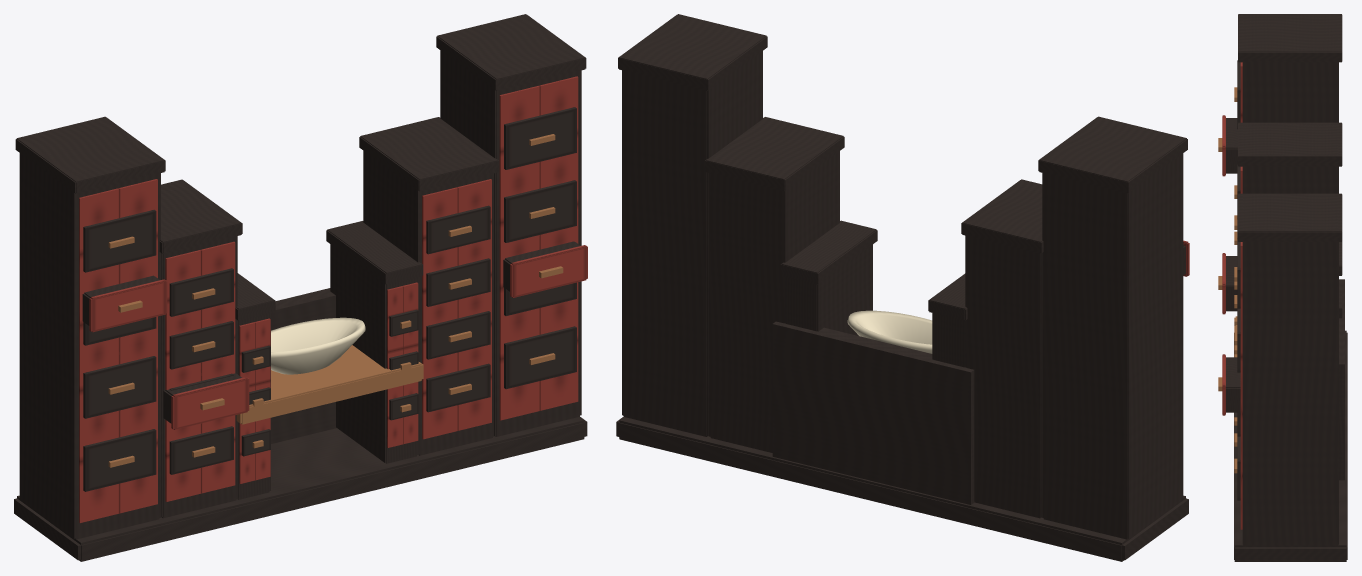
3 views of the same model, side by side, from view 1: azimuth 30°, elevation 25°; view 2: azimuth 150°, elevation 25°; view 3: azimuth 270°, elevation 25° (orthographic). The views are drawn at different scales.
Visible parts, largest first — view 1: Right stepped bank, Left stepped bank, Plinth and open niche, Three open drawers, Porcelain counting bowl; view 2: Left stepped bank, Right stepped bank, Plinth and open niche, Porcelain counting bowl; view 3: Right stepped bank, Left stepped bank, Plinth and open niche, Three open drawers.
Part boxes in pixels (box(x1,y1,x2,y2)): Right stepped bank: box(326, 14, 586, 463); Left stepped bank: box(15, 116, 275, 539); Plinth and open niche: box(14, 288, 587, 561); Three open drawers: box(82, 241, 587, 429); Porcelain counting bowl: box(271, 317, 365, 374); Left stepped bank: box(928, 116, 1187, 539); Right stepped bank: box(618, 14, 877, 452); Plinth and open niche: box(616, 321, 1188, 561); Porcelain counting bowl: box(847, 310, 932, 353); Right stepped bank: box(1234, 193, 1342, 545); Left stepped bank: box(1234, 14, 1342, 357); Plinth and open niche: box(1234, 279, 1347, 561); Three open drawers: box(1218, 115, 1240, 415).
Size of the model in its own units: 4.2 by 2.98 by 1.05.
Materials: 1 (1 with a texture image).
